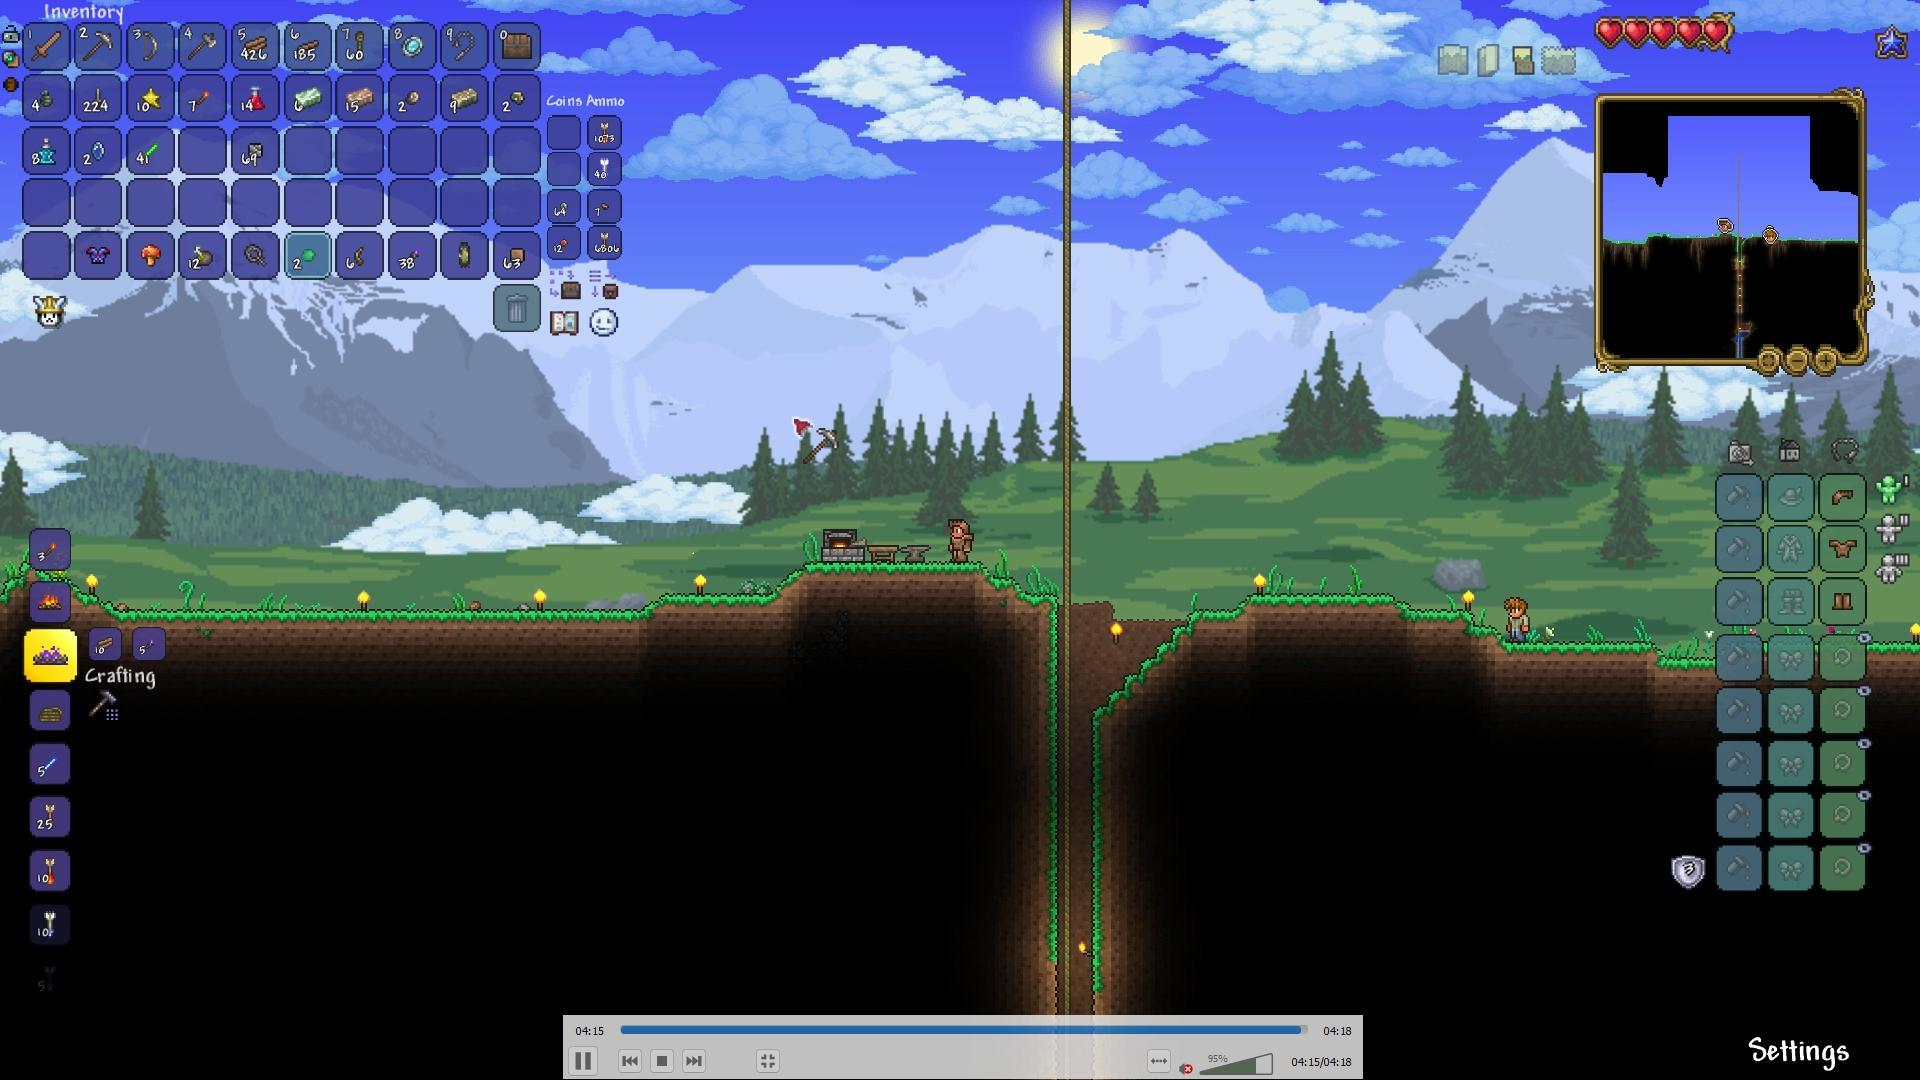anvil: (902, 538, 931, 562)
chest: (498, 29, 537, 61)
furnace: (819, 525, 868, 568)
potion: (245, 80, 265, 112)
recallP: (37, 135, 58, 165)
